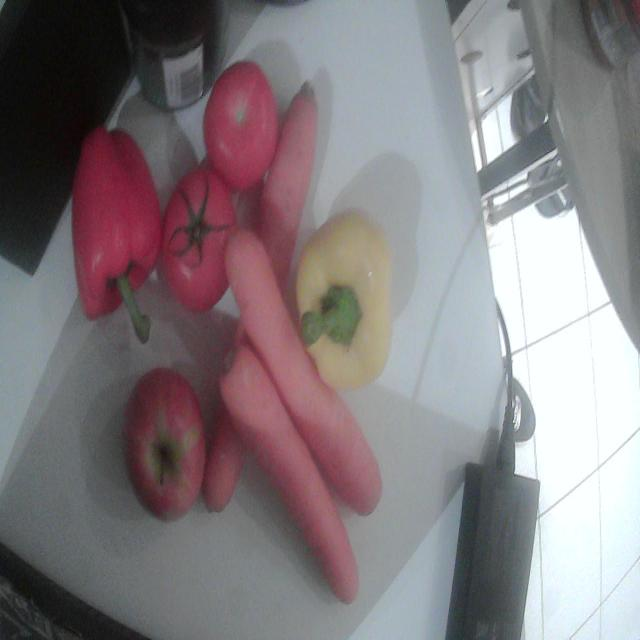Apple: (126, 369, 206, 519)
Bell Pepper: (72, 129, 160, 343), (296, 212, 392, 390)
Carrot: (226, 230, 382, 515), (220, 347, 358, 603), (252, 79, 317, 294)
Tomato: (162, 168, 236, 312), (203, 62, 278, 191)
